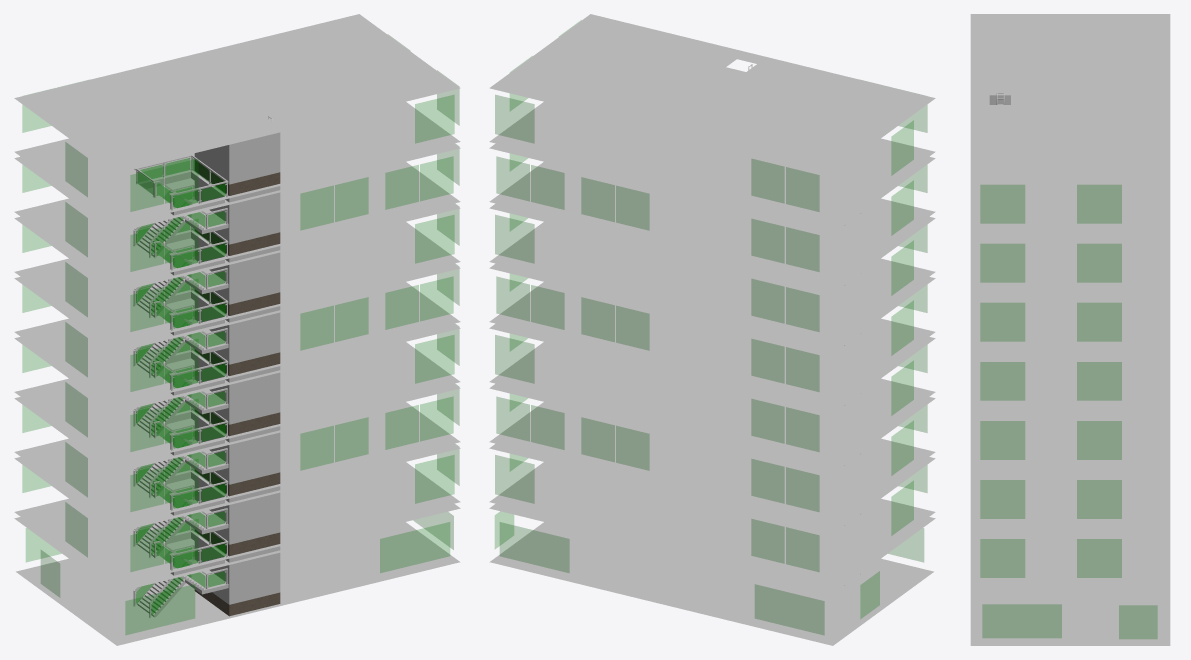
Rendered from SM_Building24_V1_Interior.fbx.
3 renders of one model, left to right at view 1: azimuth 30°, elevation 25°; view 2: azimuth 150°, elevation 25°; view 3: azimuth 270°, elevation 25°, orthographic.
Visible parts, largest first — view 1: SM_Building24_V1_Interior; view 2: SM_Building24_V1_Interior; view 3: SM_Building24_V1_Interior.
Part boxes in pixels (x1=…): SM_Building24_V1_Interior: x1=14, y1=14, x2=460, y2=645; SM_Building24_V1_Interior: x1=489, y1=14, x2=935, y2=645; SM_Building24_V1_Interior: x1=970, y1=14, x2=1170, y2=645.
Bounding box in the file's own units: 2486 × 3322 × 1322.
